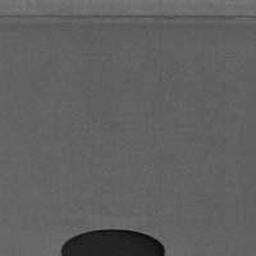Punching: (61, 228, 168, 256)
